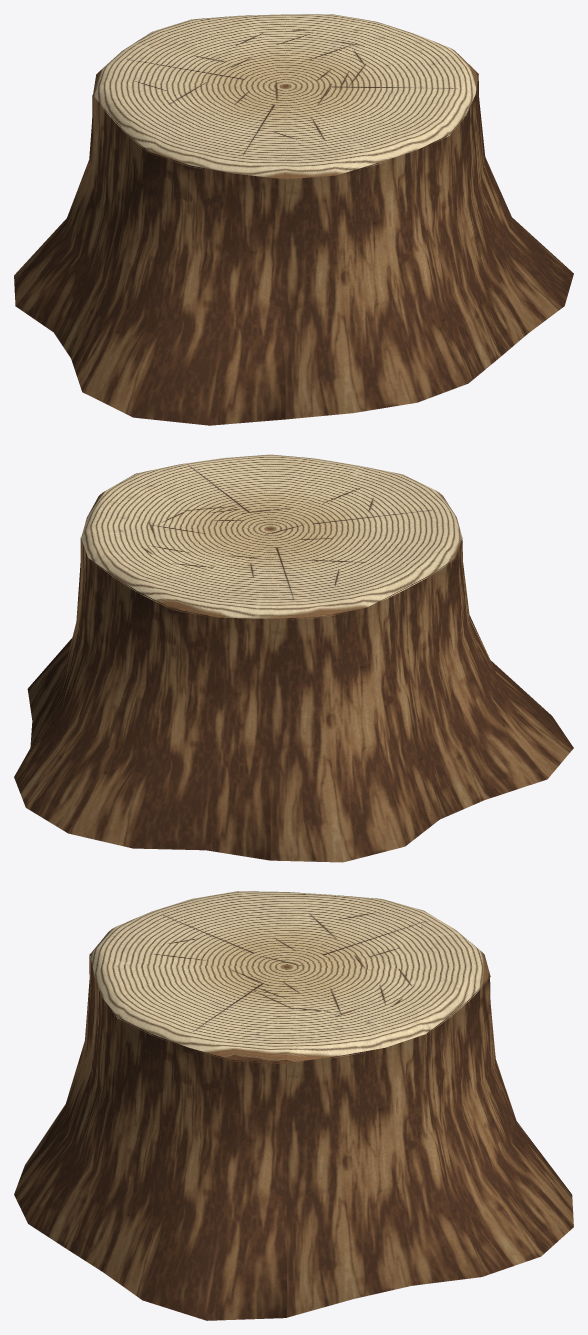
The model's file is stump_lod.gltf.
3 renders of one model, top to bottom at view 1: azimuth 30°, elevation 25°; view 2: azimuth 150°, elevation 25°; view 3: azimuth 270°, elevation 25°, orthographic. The views are drawn at different scales.
Parts seen in each view (by area): view 1: stump_mesh; view 2: stump_mesh; view 3: stump_mesh.
Part boxes in pixels (x1,y1,x2,y2): stump_mesh: [14, 14, 573, 425]; stump_mesh: [14, 454, 573, 862]; stump_mesh: [14, 891, 573, 1320].
Bounding box in the file's own units: 0.8639 × 0.37 × 0.825.
1 material, 1 textured.
